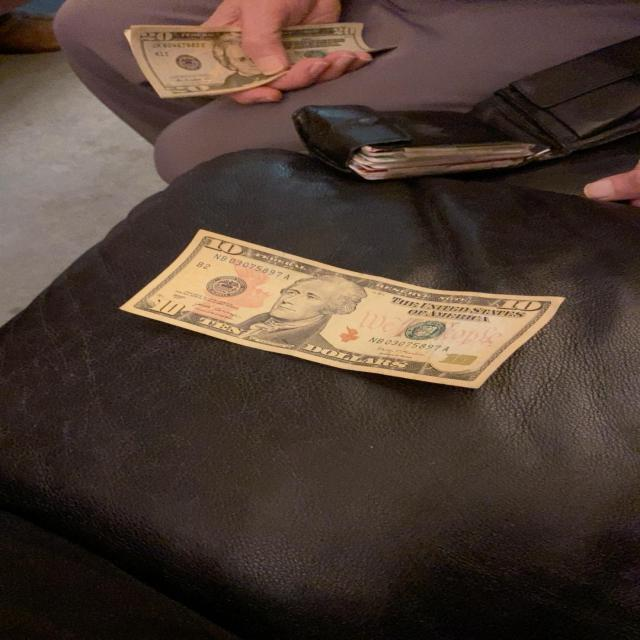10-Front: (112, 229, 588, 386)
20-Front: (119, 20, 409, 102)
